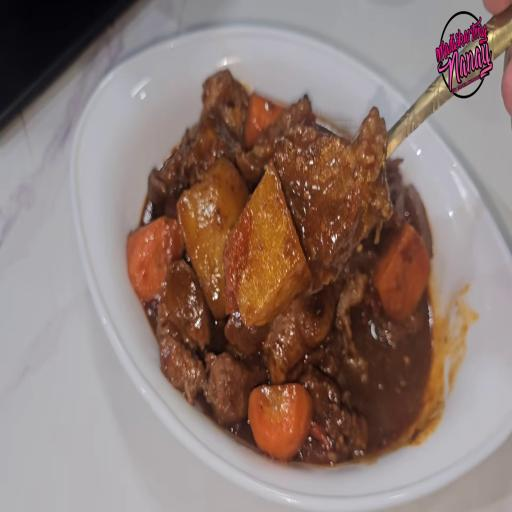pork caldereta: (128, 90, 424, 441)
